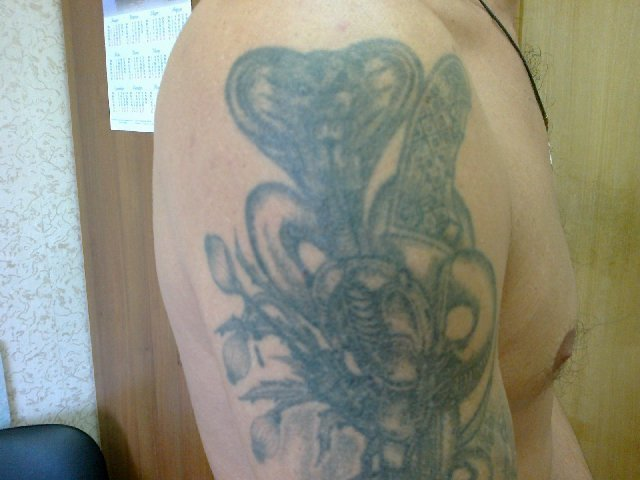tatu7_zmeya: (216, 46, 507, 471)
